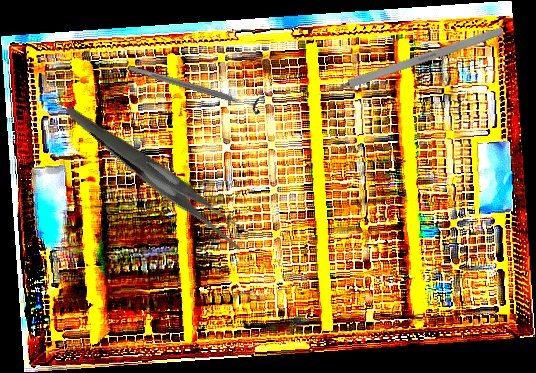Dressing Forceps: (65, 64, 255, 286)
Fixation Ring: (124, 56, 267, 118)
Hook Surgical: (311, 26, 505, 101)
